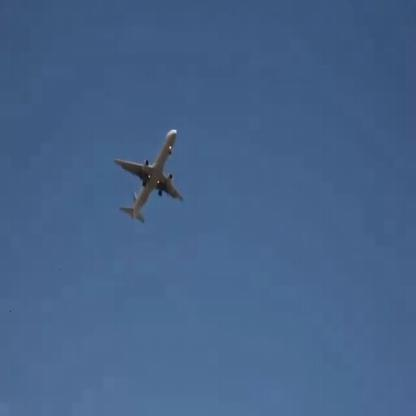CIV_Plane: (114, 125, 186, 223)
